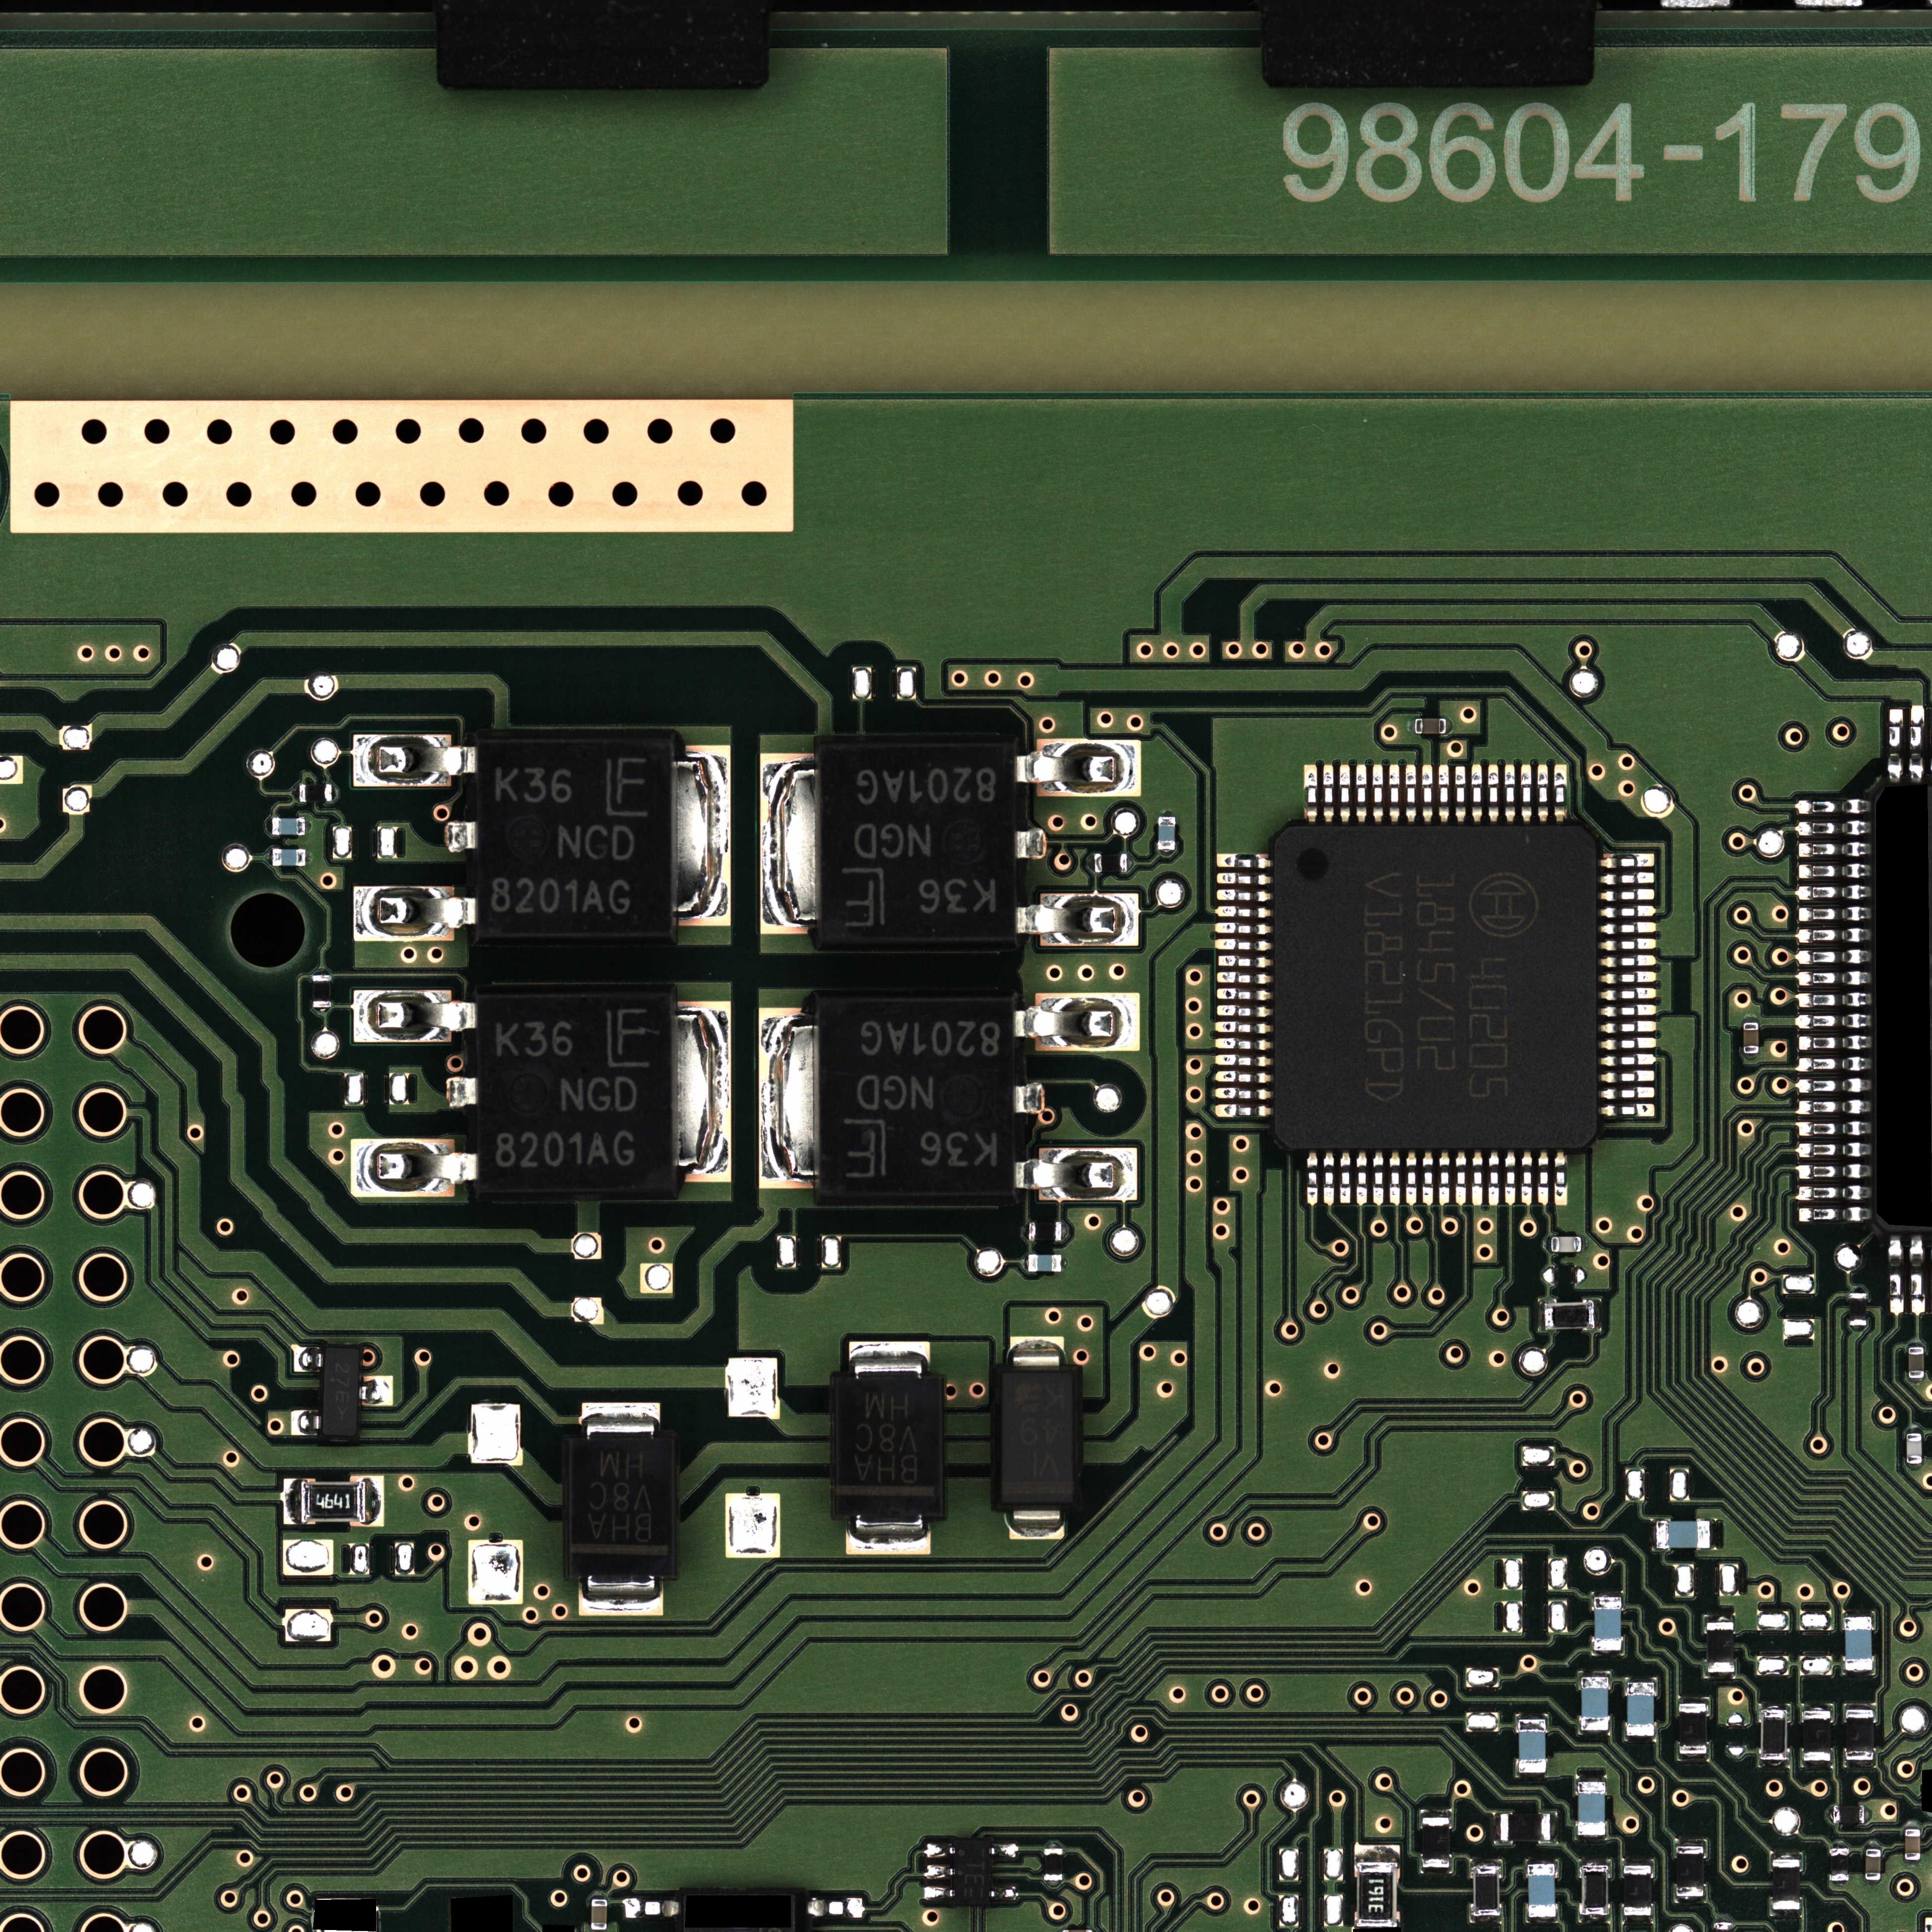Package: (1274, 826, 1596, 1148), (821, 743, 1016, 943), (476, 993, 669, 1191), (478, 740, 669, 939), (823, 996, 1014, 1194), (835, 1378, 945, 1514), (570, 1440, 676, 1575), (1001, 1373, 1074, 1504), (322, 1348, 359, 1437), (1355, 1863, 1399, 1927), (301, 1481, 366, 1522), (954, 1840, 991, 1904), (1518, 1720, 1546, 1773), (1594, 1598, 1622, 1651), (1656, 1522, 1711, 1548), (1845, 1709, 1874, 1760), (1845, 1617, 1872, 1670), (1582, 1677, 1608, 1730), (1529, 1865, 1555, 1918), (1578, 1782, 1605, 1835), (1628, 1683, 1654, 1736), (1679, 1704, 1707, 1753), (1500, 1813, 1550, 1842), (1803, 1711, 1831, 1760), (1677, 1847, 1704, 1897), (1422, 1817, 1449, 1867), (1545, 1302, 1594, 1329), (1624, 1867, 1651, 1916), (1773, 1859, 1799, 1909), (1707, 1622, 1734, 1672), (1582, 1865, 1606, 1914), (1474, 1867, 1499, 1916), (1762, 1711, 1787, 1760), (311, 975, 331, 1008), (299, 784, 333, 803), (1028, 1223, 1062, 1242), (1044, 1849, 1063, 1881), (272, 849, 306, 867), (1028, 1254, 1062, 1272), (272, 817, 304, 835), (1095, 855, 1127, 872), (1831, 1849, 1849, 1881), (1849, 1293, 1867, 1325), (1833, 1806, 1865, 1824), (1159, 817, 1175, 849), (1909, 1346, 1925, 1378), (1415, 718, 1445, 734), (1865, 1849, 1881, 1879), (1743, 1023, 1759, 1053), (1552, 1237, 1582, 1253), (591, 1900, 607, 1928), (1907, 1433, 1921, 1463), (1905, 1829, 1920, 1859)
Solder: (757, 1008, 819, 1189), (759, 755, 821, 934), (671, 745, 731, 925), (672, 1001, 732, 1180), (1016, 991, 1141, 1053), (352, 1138, 476, 1198), (1017, 738, 1141, 798), (1016, 892, 1139, 948), (354, 885, 476, 941), (352, 732, 476, 787), (352, 989, 476, 1044), (1016, 1148, 1139, 1203), (579, 1575, 663, 1617), (846, 1514, 931, 1555), (849, 1341, 931, 1378), (580, 1403, 660, 1440), (1008, 1504, 1065, 1539), (1010, 1336, 1063, 1371), (1907, 704, 1927, 782), (1796, 1162, 1872, 1182), (1796, 1141, 1872, 1161), (1794, 1033, 1870, 1053), (1794, 1012, 1870, 1031), (1909, 1235, 1927, 1316), (1888, 1235, 1905, 1316), (1796, 1205, 1872, 1223), (1796, 1184, 1872, 1201), (1794, 1077, 1870, 1095), (1794, 1056, 1870, 1074), (1794, 993, 1870, 1010), (1794, 971, 1870, 989), (1796, 948, 1872, 966), (1794, 927, 1870, 945), (1794, 906, 1870, 924), (1796, 840, 1872, 858), (1794, 862, 1870, 879), (1794, 883, 1870, 901), (809, 1897, 867, 1920), (1796, 1120, 1870, 1138), (1796, 1099, 1870, 1116), (1796, 798, 1870, 816), (1796, 819, 1870, 837), (1888, 708, 1905, 782), (621, 1898, 679, 1920), (1016, 828, 1047, 860), (359, 1376, 393, 1407), (446, 1077, 478, 1108), (366, 1476, 384, 1527), (446, 821, 476, 851), (1599, 853, 1654, 869), (1304, 764, 1318, 824), (1016, 1083, 1044, 1113), (1553, 764, 1568, 824), (1214, 1104, 1272, 1118), (283, 1479, 301, 1525), (1215, 855, 1272, 869), (294, 1346, 324, 1373), (290, 1410, 322, 1435), (1355, 1844, 1399, 1861), (1553, 1152, 1568, 1205), (1405, 764, 1417, 824), (1355, 764, 1368, 824), (1520, 764, 1532, 824), (1504, 764, 1516, 824), (1454, 764, 1467, 824), (1214, 906, 1272, 918), (1214, 922, 1272, 934), (1214, 1039, 1272, 1051), (1599, 922, 1658, 934), (1599, 955, 1658, 968), (1599, 971, 1658, 984), (1215, 872, 1272, 885), (1215, 890, 1272, 902), (1215, 971, 1272, 984), (1215, 989, 1272, 1001), (1215, 1088, 1272, 1100), (1215, 1070, 1272, 1083), (1215, 1054, 1272, 1067), (1215, 1021, 1272, 1033), (1215, 1005, 1272, 1017), (1599, 906, 1656, 918), (1599, 1021, 1656, 1033), (1599, 1005, 1656, 1017), (1599, 1054, 1656, 1067), (1217, 955, 1272, 968), (1599, 872, 1654, 885), (1601, 1104, 1656, 1116), (1599, 1070, 1654, 1083), (1504, 1150, 1516, 1205), (1323, 764, 1334, 824), (1339, 764, 1350, 824), (1422, 764, 1433, 824), (1373, 764, 1384, 824), (1389, 764, 1399, 824), (1438, 764, 1449, 824), (1537, 764, 1548, 824), (1472, 764, 1483, 824), (1488, 764, 1499, 824), (1214, 939, 1272, 950), (1599, 939, 1658, 950), (1422, 1150, 1433, 1207), (1438, 1150, 1449, 1207), (1599, 890, 1656, 901), (1599, 1039, 1656, 1049), (1599, 989, 1656, 1000), (1599, 1088, 1656, 1099), (1537, 1150, 1548, 1207), (1389, 1150, 1399, 1205), (1373, 1150, 1384, 1205), (1357, 1150, 1368, 1205), (1522, 1150, 1532, 1205), (1472, 1150, 1483, 1205), (1488, 1150, 1499, 1205), (1456, 1150, 1467, 1205), (1407, 1152, 1417, 1205), (1323, 1152, 1334, 1205), (1307, 1152, 1318, 1205), (1339, 1152, 1350, 1203), (924, 1886, 954, 1900), (925, 1844, 954, 1858), (925, 1865, 954, 1879), (991, 1844, 1019, 1858), (991, 1886, 1019, 1900), (1421, 1808, 1451, 1817), (1421, 1867, 1451, 1875), (1537, 1299, 1545, 1332), (1842, 1610, 1875, 1617), (1594, 1299, 1601, 1330), (1704, 1615, 1736, 1622), (1709, 1518, 1716, 1550), (1706, 1672, 1736, 1679), (1580, 1670, 1610, 1677), (1771, 1909, 1801, 1916), (1576, 1835, 1606, 1842), (1591, 1651, 1624, 1656), (1651, 1518, 1656, 1552), (1842, 1670, 1875, 1675), (1157, 809, 1177, 817), (1493, 1813, 1499, 1845), (1527, 1858, 1557, 1863), (1580, 1730, 1610, 1736), (1580, 1916, 1610, 1921), (1580, 1859, 1610, 1865), (1470, 1859, 1500, 1865), (1470, 1916, 1500, 1921), (1527, 1918, 1557, 1923), (1622, 1859, 1652, 1865), (1844, 1704, 1874, 1709), (1771, 1854, 1801, 1859), (1576, 1776, 1606, 1782), (1516, 1773, 1546, 1778), (1626, 1736, 1656, 1741), (1759, 1760, 1789, 1766), (1679, 1698, 1709, 1704), (1626, 1677, 1656, 1683), (1552, 1812, 1557, 1842), (1803, 1706, 1831, 1711), (1803, 1762, 1831, 1767), (1624, 1916, 1652, 1921), (1675, 1840, 1704, 1845), (1760, 1704, 1789, 1709), (1845, 1760, 1874, 1766), (1518, 1713, 1546, 1718), (1675, 1897, 1704, 1902), (1679, 1755, 1707, 1760), (311, 968, 331, 975), (1157, 849, 1177, 856), (1044, 1842, 1063, 1849), (1044, 1881, 1063, 1888), (1849, 1325, 1868, 1332), (306, 849, 313, 867), (265, 817, 272, 835), (313, 1007, 331, 1014), (1127, 855, 1134, 872), (1088, 855, 1095, 872), (1062, 1254, 1069, 1272), (1062, 1223, 1069, 1240), (1021, 1254, 1028, 1272), (265, 849, 272, 865), (1408, 718, 1415, 734), (1445, 718, 1453, 734), (1023, 1224, 1030, 1240), (1743, 1016, 1759, 1023), (1851, 1286, 1867, 1293), (1743, 1053, 1759, 1060), (1545, 1237, 1552, 1253), (1592, 1592, 1622, 1596), (593, 1891, 607, 1898), (306, 817, 311, 835), (333, 784, 338, 801), (294, 784, 299, 801), (1907, 1378, 1925, 1384), (1828, 1806, 1833, 1824), (1865, 1806, 1870, 1824), (1905, 1463, 1923, 1468), (1831, 1881, 1849, 1886), (1905, 1428, 1921, 1433), (1907, 1341, 1923, 1346), (1582, 1237, 1587, 1253), (1865, 1844, 1881, 1849), (1905, 1859, 1920, 1865), (1905, 1824, 1920, 1829), (1831, 1844, 1847, 1847), (1867, 1881, 1881, 1884)
